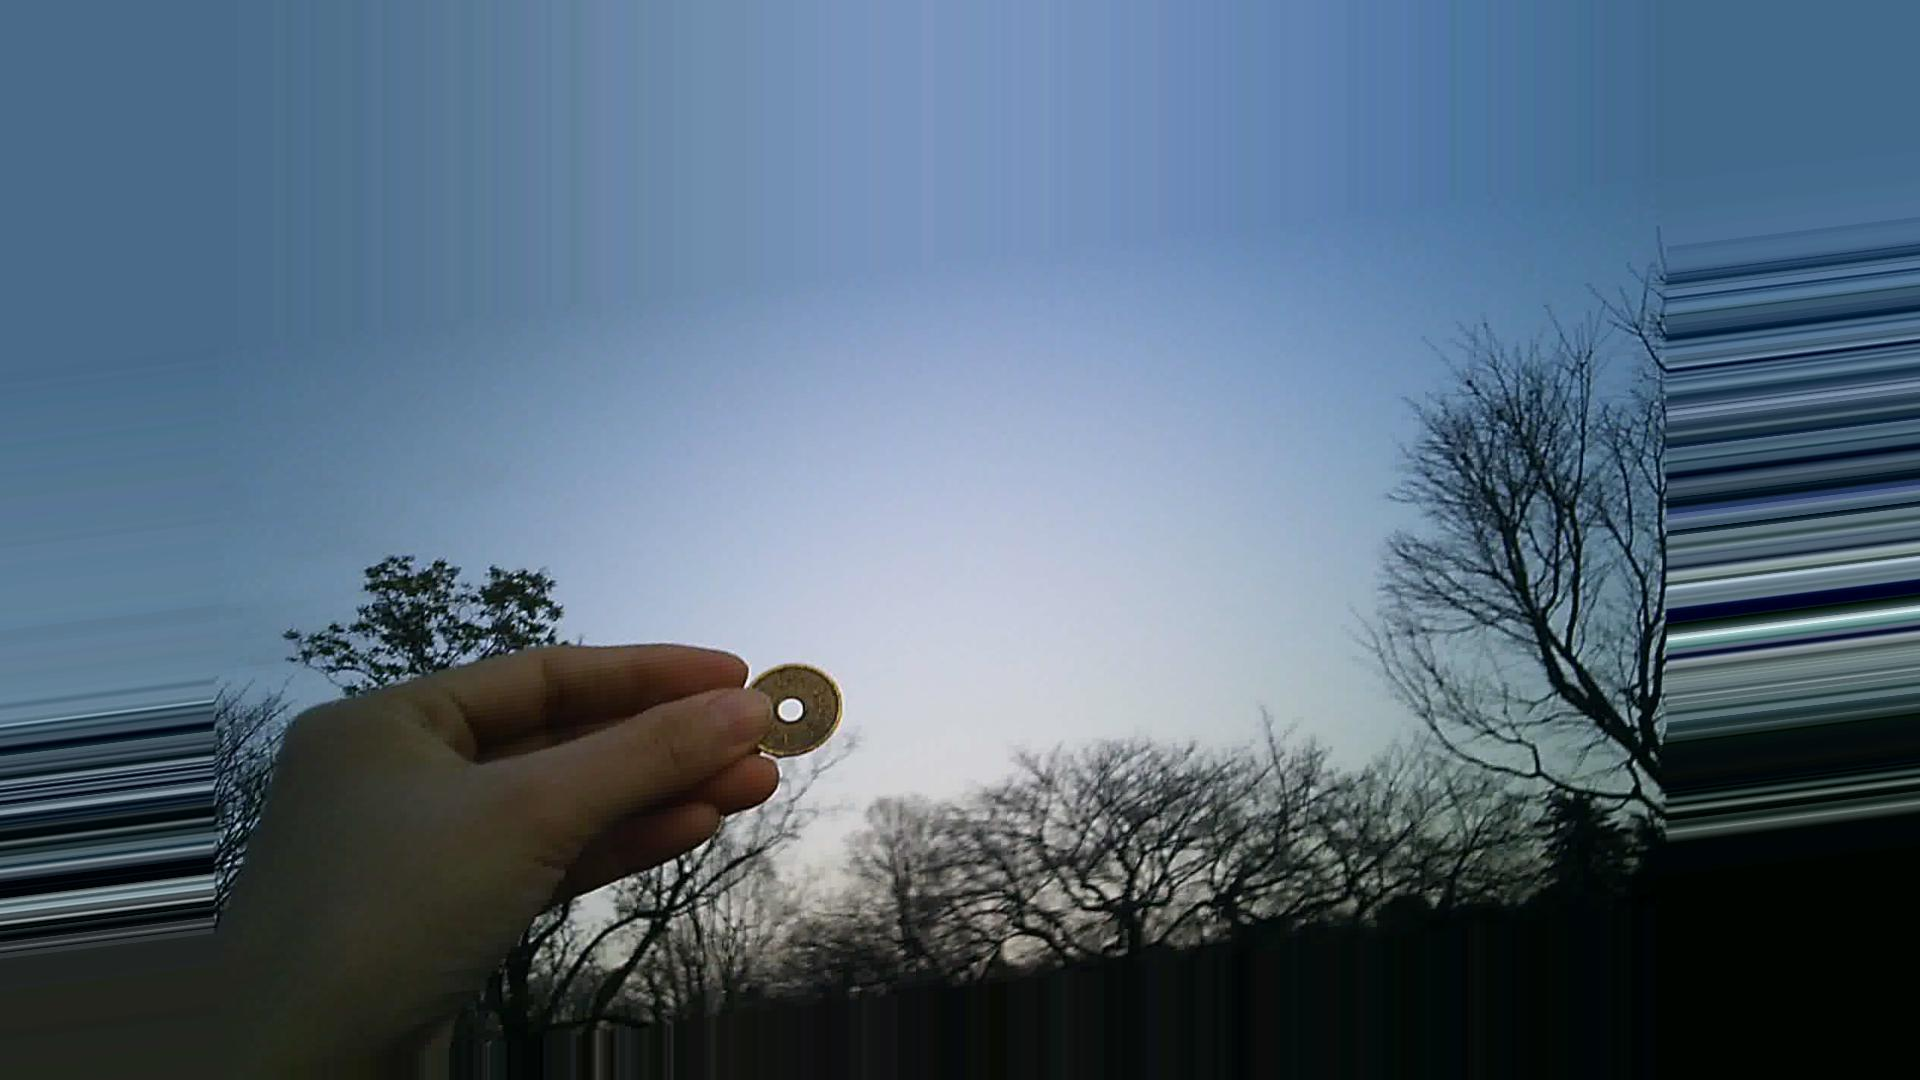5 Yen: (738, 657, 851, 771)
